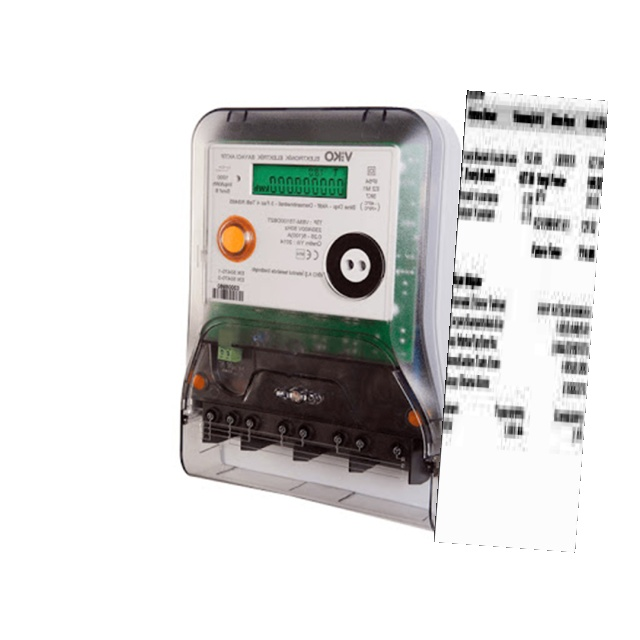electricity-bill: (433, 90, 607, 553)
